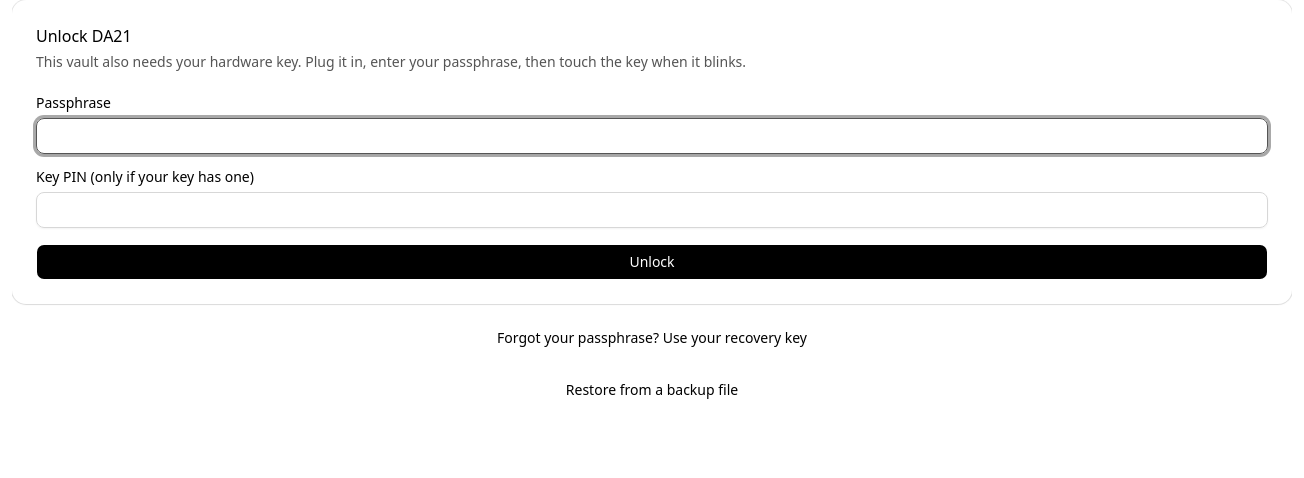
Test: UnlockScreen with a hardware key required › shows the reason when the key is missing and stays usable
In the password field labelled "Passphrase": (652, 136) [36, 118, 1268, 154], type "my passphrase"
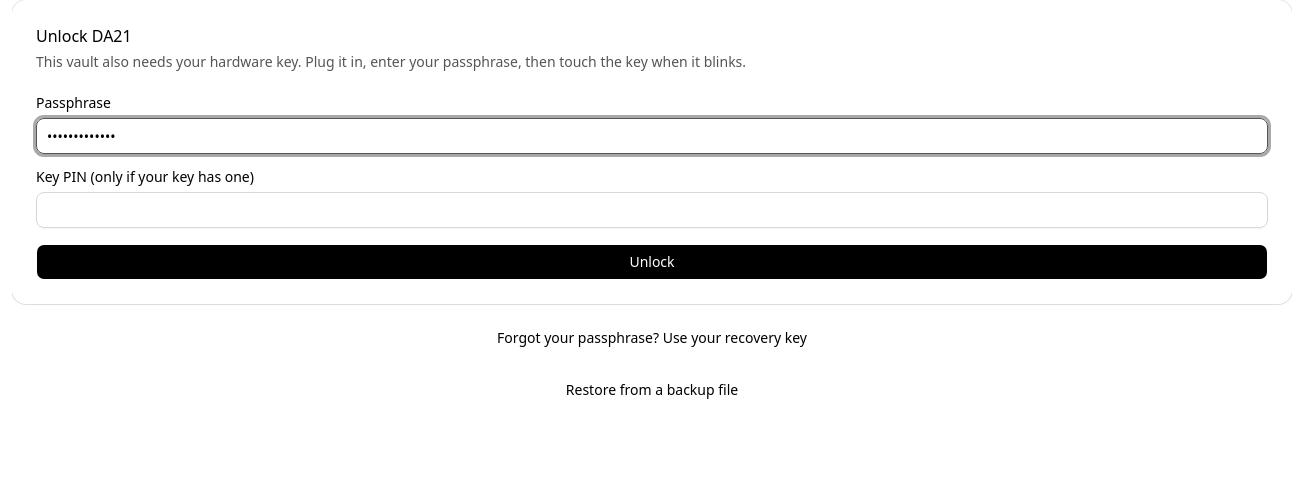
Click the button "Unlock": (652, 262) [36, 244, 1268, 280]
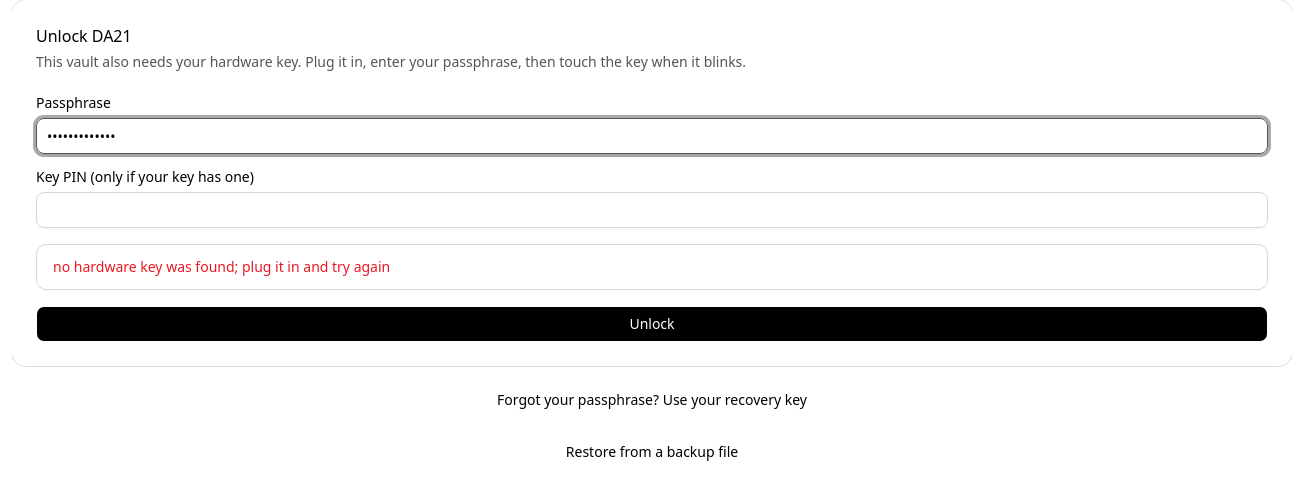
Expected: the button "Unlock" is enabled, [36, 306, 1268, 342]
Result: the text "no hardware key was found; plug it in and try again" is shown at [53, 257, 390, 276]
